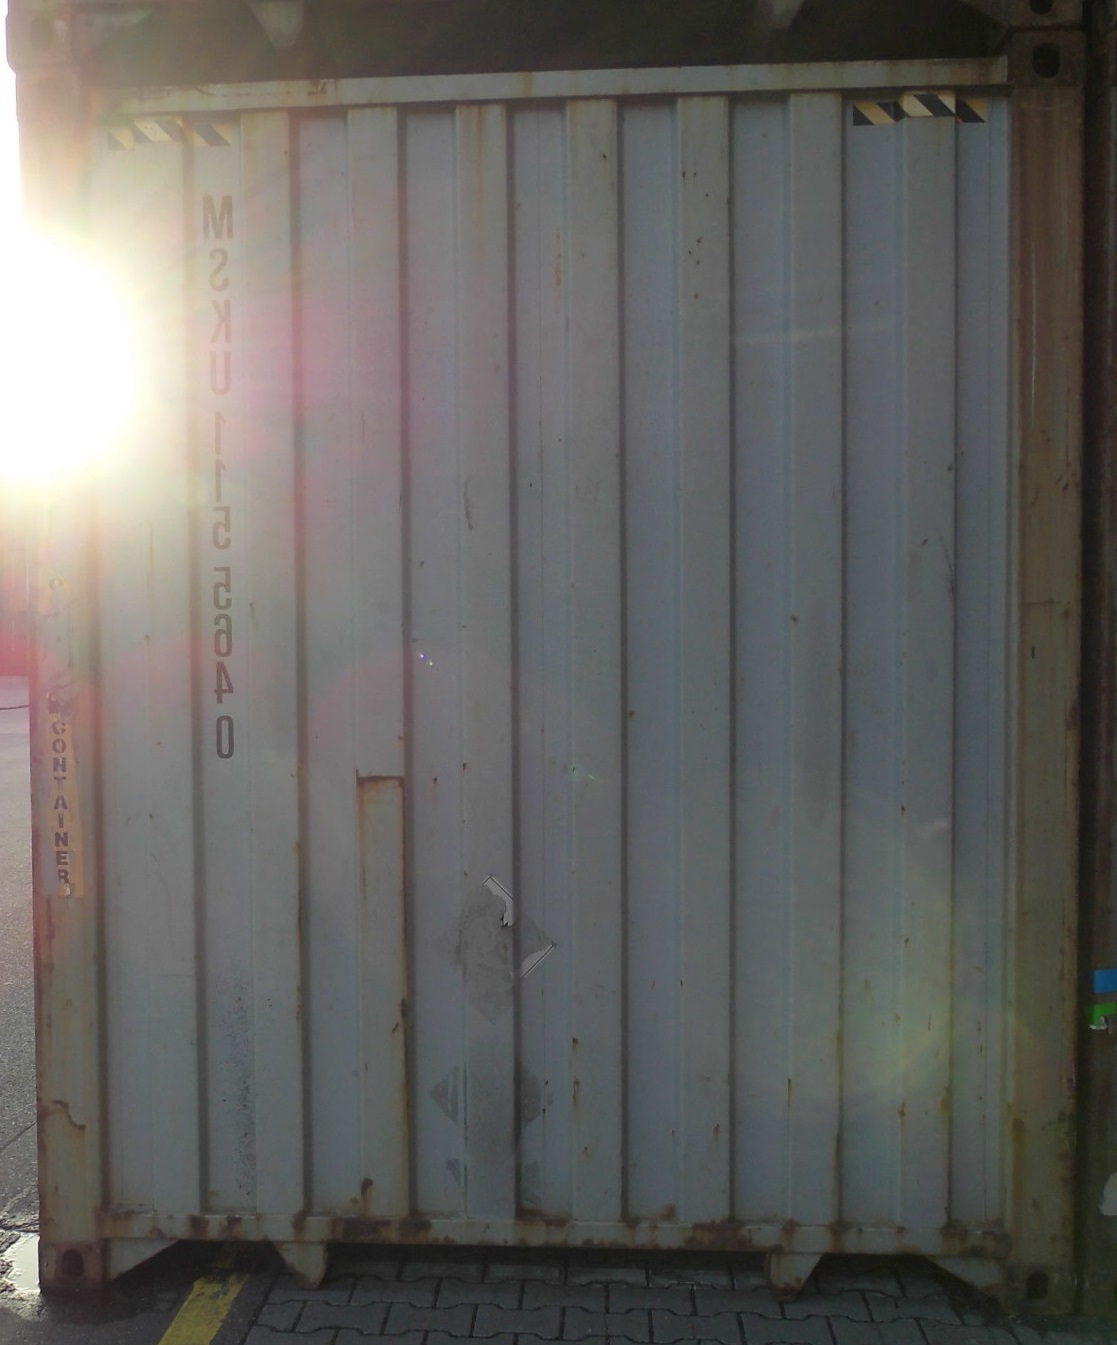container_no_door: (30, 53, 1086, 1295)
